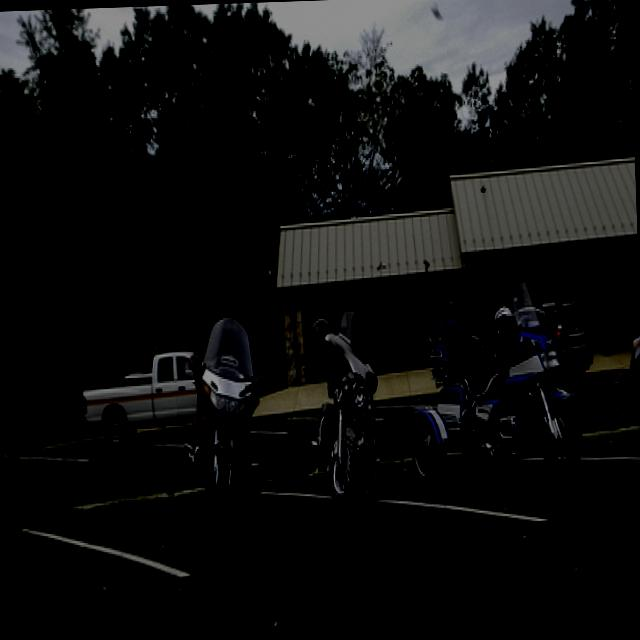Vehicle: (458, 284, 586, 480), (179, 316, 272, 528), (312, 309, 382, 504), (82, 352, 202, 449), (81, 351, 199, 443), (542, 301, 594, 390)
